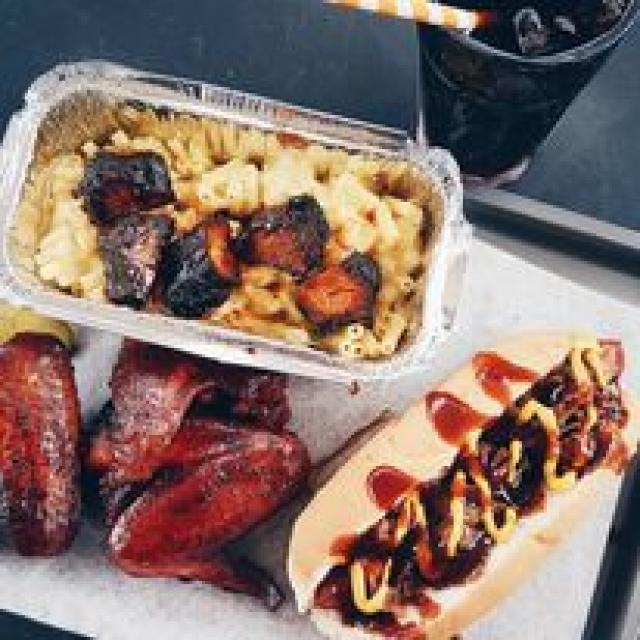Chicken Wings: (3, 314, 304, 599)
